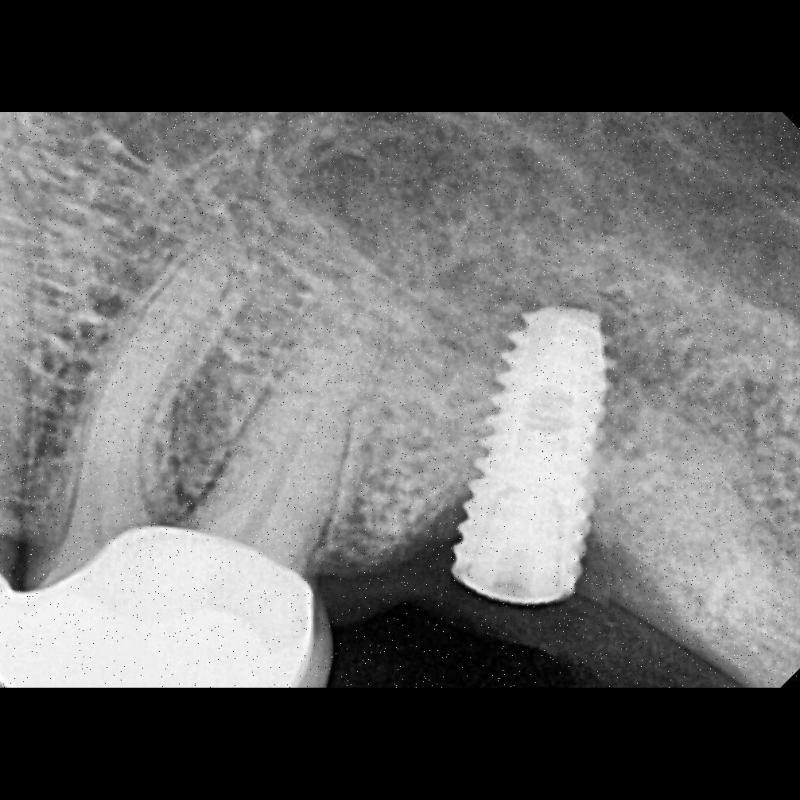osstem: (453, 295, 624, 621)
